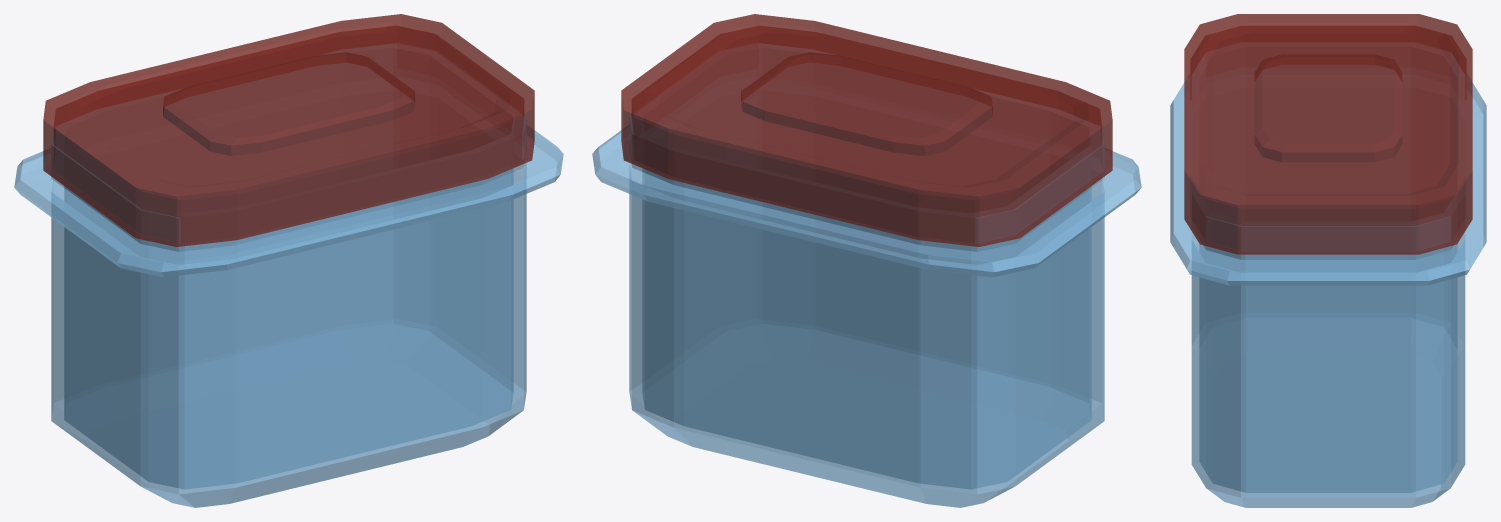
File: tupper 05.fbx
3 views of the same model, side by side, from view 1: azimuth 30°, elevation 25°; view 2: azimuth 150°, elevation 25°; view 3: azimuth 270°, elevation 25° (orthographic).
Visible parts, largest first — view 1: tupper.001, tapa tupper.001; view 2: tupper.001, tapa tupper.001; view 3: tupper.001, tapa tupper.001.
Boxes of the visible parts, bbox=[...] form: tupper.001: bbox=[14, 44, 563, 507]; tapa tupper.001: bbox=[43, 14, 534, 246]; tupper.001: bbox=[592, 44, 1141, 507]; tapa tupper.001: bbox=[621, 14, 1112, 246]; tupper.001: bbox=[1170, 55, 1486, 507]; tapa tupper.001: bbox=[1184, 14, 1472, 254].
Size of the model in its own units: 18.5 by 11.56 by 13.36.
